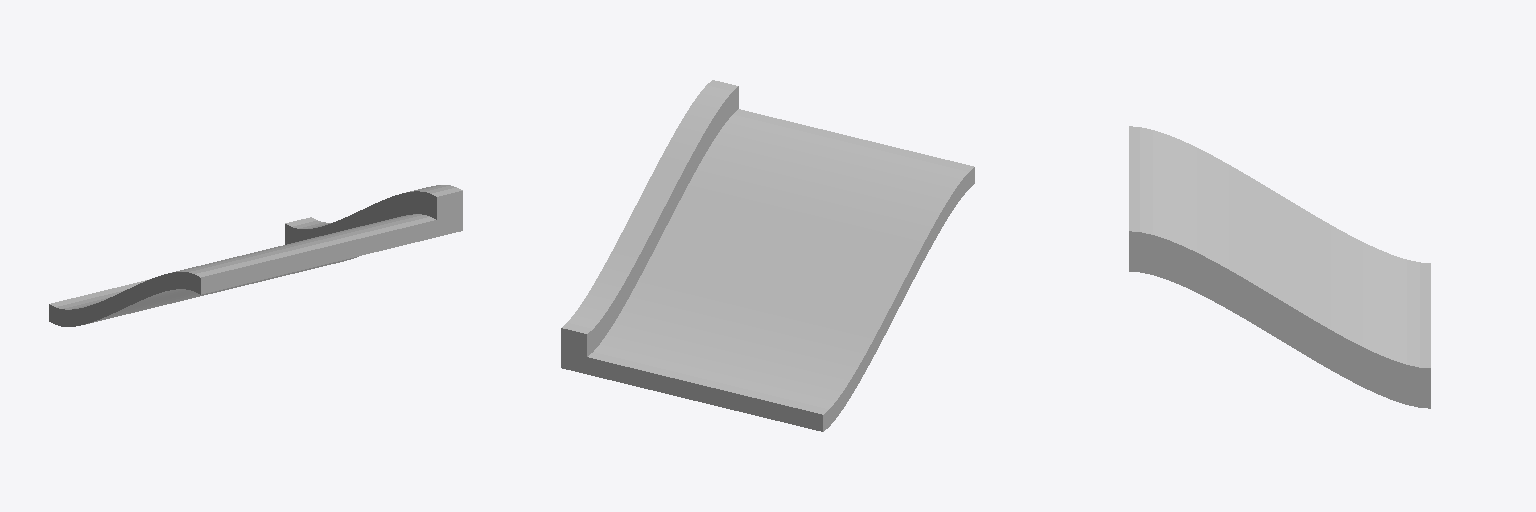
The model's file is rampSide.obj.
3 views of the same model, side by side, from view 1: azimuth 30°, elevation 25°; view 2: azimuth 150°, elevation 25°; view 3: azimuth 270°, elevation 25° (orthographic).
Visible parts, largest first — view 1: rampSide; view 2: rampSide; view 3: rampSide.
Part boxes in pixels (x1,y1,x2,y2): rampSide: (49, 185, 462, 326); rampSide: (561, 80, 974, 431); rampSide: (1129, 126, 1430, 408).
Bounding box in the file's own units: 0.9999 × 0.6467 × 0.9999.